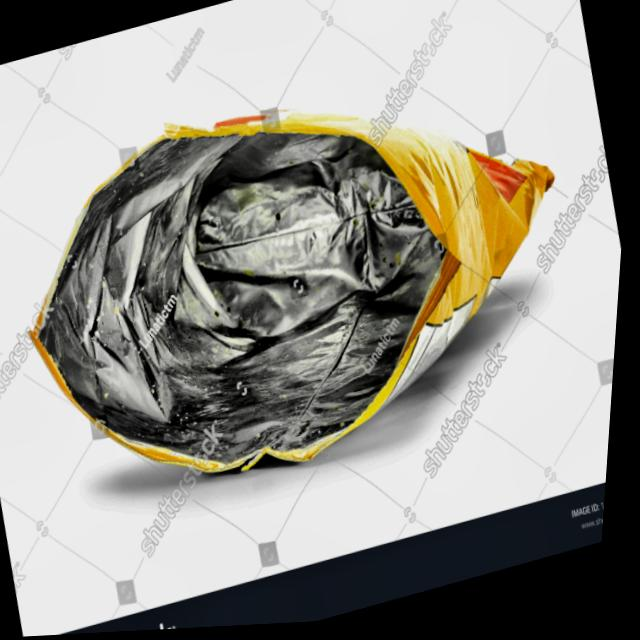Plastic: (0, 0, 620, 554)
